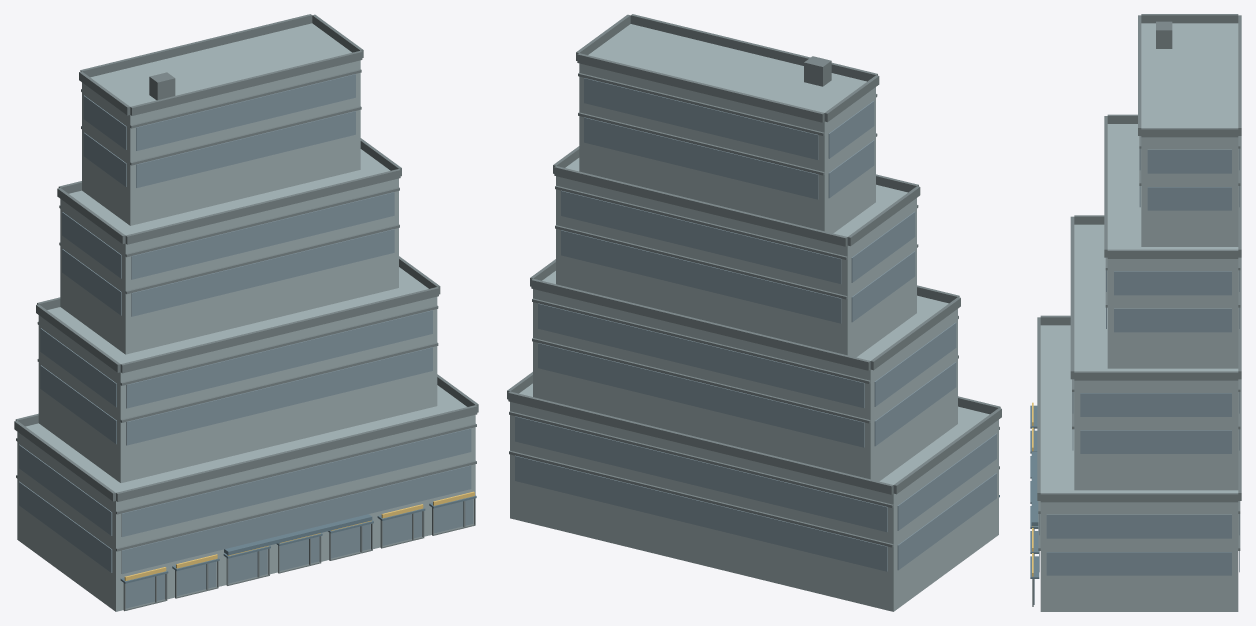
Rendered from commercial_4x2_terraces.glb.
The picture shows the model from 3 angles, left to right: view 1: azimuth 30°, elevation 25°; view 2: azimuth 150°, elevation 25°; view 3: azimuth 270°, elevation 25°; orthographic projection. The views are drawn at different scales.
Parts seen in each view (by area): view 1: commercial_4x2_terraces_0; view 2: commercial_4x2_terraces_0; view 3: commercial_4x2_terraces_0.
Part boxes in pixels (bbox=[...]): commercial_4x2_terraces_0: bbox=[14, 14, 478, 611]; commercial_4x2_terraces_0: bbox=[507, 14, 1001, 611]; commercial_4x2_terraces_0: bbox=[1030, 14, 1241, 611].
Bounding box in the file's own units: 31 × 37.5 × 15.5.
